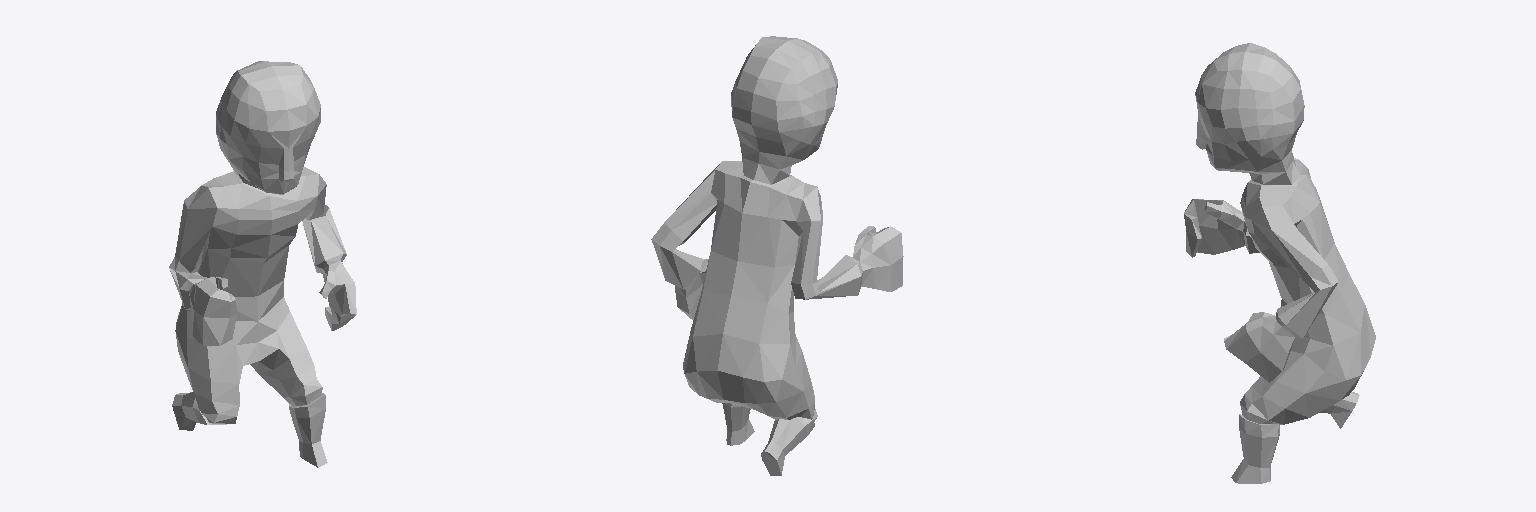
The model's file is KnightCharacter16.obj.
3 views of the same model, side by side, from view 1: azimuth 30°, elevation 25°; view 2: azimuth 150°, elevation 25°; view 3: azimuth 270°, elevation 25° (orthographic).
Parts seen in each view (by area): view 1: Knight; view 2: Knight; view 3: Knight.
Boxes of the visible parts, <box> form: Knight: <box>169,61,356,467</box>; Knight: <box>651,36,903,475</box>; Knight: <box>1184,43,1375,483</box>.
Size of the model in its own units: 2.49 by 5.15 by 2.21.